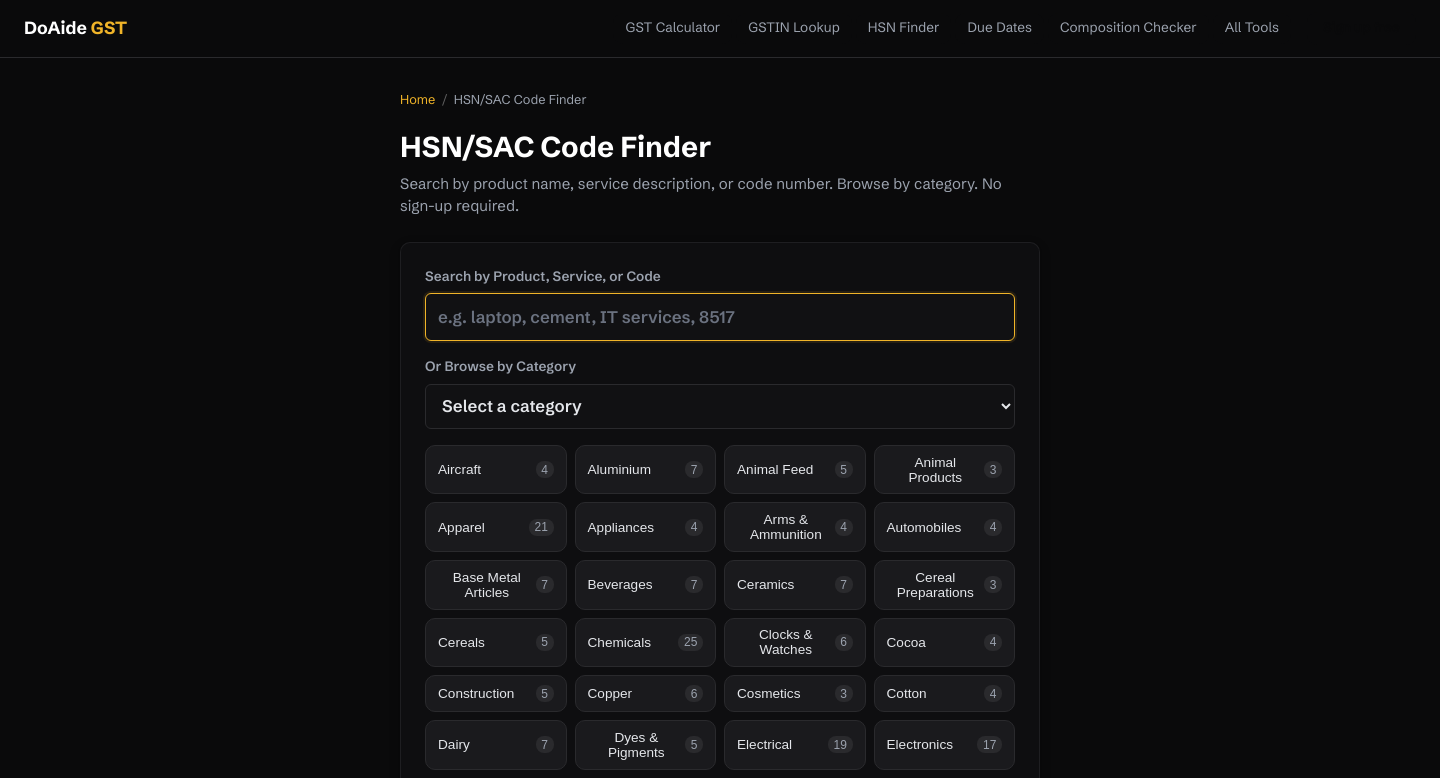
Test: HsnSacFinderPage › searches by code number
The image size is (1440, 778).
In the field with placeholder "e.g. laptop, cement, IT services, 8517": (720, 317) [425,293,1015,341], type "8517"
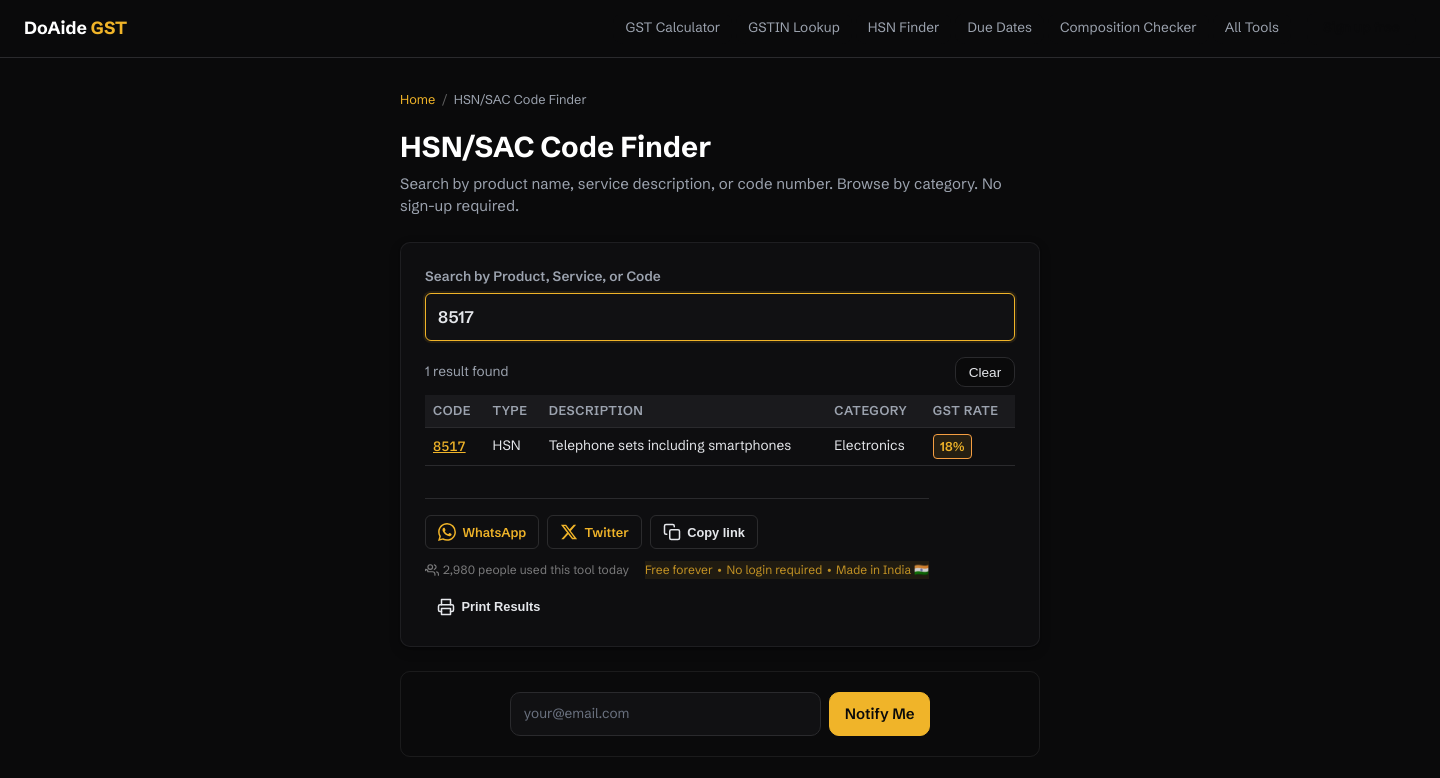
Expected: the text "Telephone sets including smartphones" is shown, [541,428,826,466]
